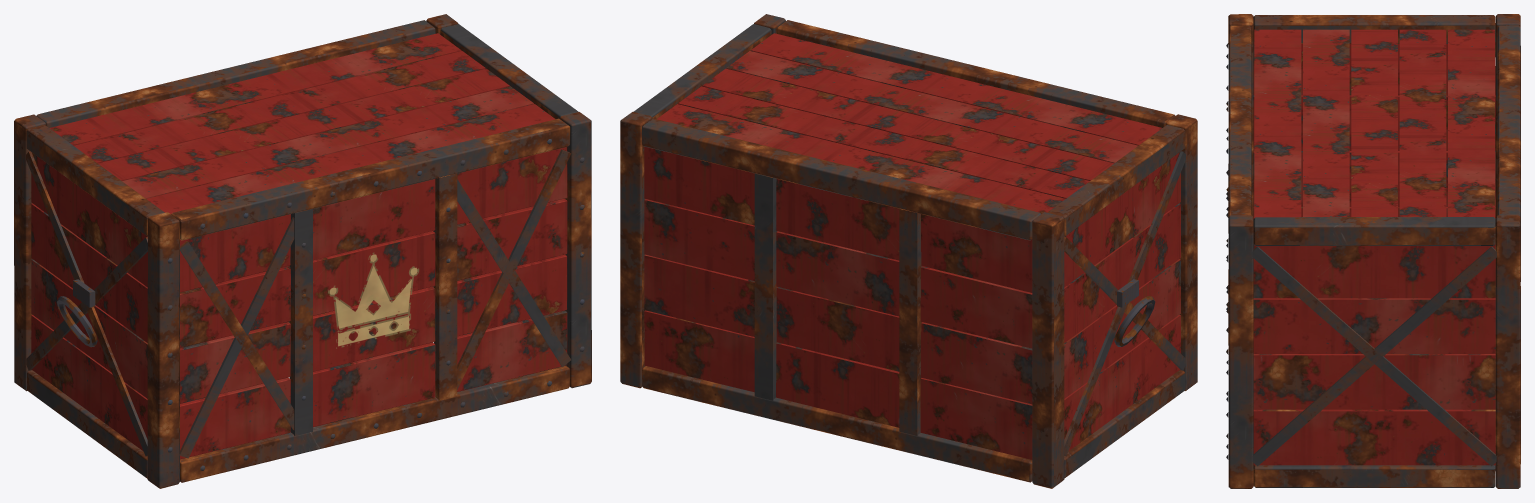
File: Large_Shipping_Crate.glb
3 renders of one model, left to right at view 1: azimuth 30°, elevation 25°; view 2: azimuth 150°, elevation 25°; view 3: azimuth 270°, elevation 25°, orthographic.
Visible parts, largest first — view 1: Large_Shipping_Crate; view 2: Large_Shipping_Crate; view 3: Large_Shipping_Crate.
Boxes of the visible parts, x1,y1,x2,y2 form: Large_Shipping_Crate: (14,14,591,488); Large_Shipping_Crate: (620,14,1197,488); Large_Shipping_Crate: (1226,14,1520,488).
Bounding box in the file's own units: 2.52 × 1.4 × 1.41.
Materials: 4 (4 with a texture image).
